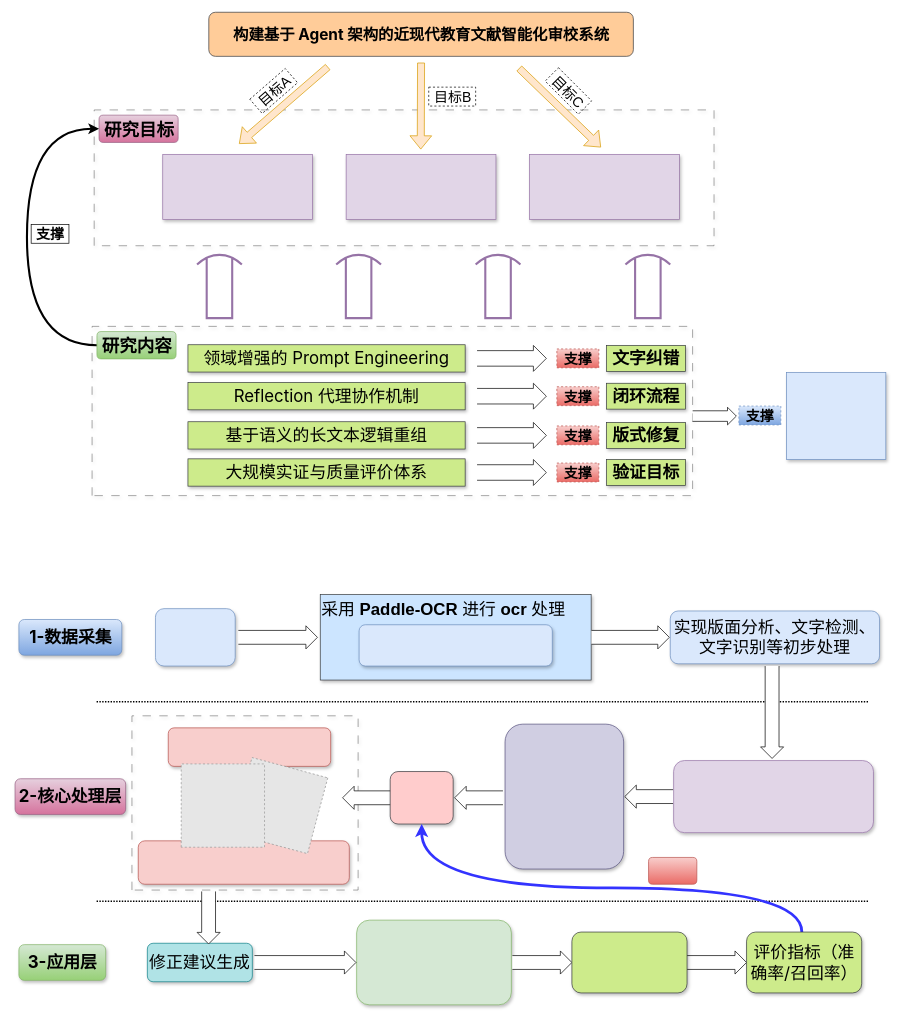
This 902x1022 diagram has some shape labels left out. Grey dashed boxes stand in for pictures. The shapes that lost their labels are listed below. From the top down, each one's centre as x and y in pixels, then its label:
the point at 238,187: 高精度文字纠错
the point at 421,187: 复杂版式逻辑修复
the point at 605,187: 全自动化闭环流程
the point at 836,417: 学术产出 (论文/ 专利)
the point at 195,638: 陶行知文集整理
the point at 456,646: 内置 PP-StructureV3
the point at 250,747: Detector ：识别异常
the point at 422,798: Agent Loop
the point at 565,797: 本地 GPU 服务器 (8x 5880 Ada) + Ollama，部署Qwen3.5
the point at 774,797: 输出 Markdown、Word、版式扫描结构图、原始JSON文件
the point at 244,863: Reflector ： 结合先验知识库逻辑比对
the point at 672,870: 闭环
the point at 434,963: 输出 自动化审校报告（.docx）、逻辑重组后的纯净文本。
the point at 629,963: 人工抽样核验
